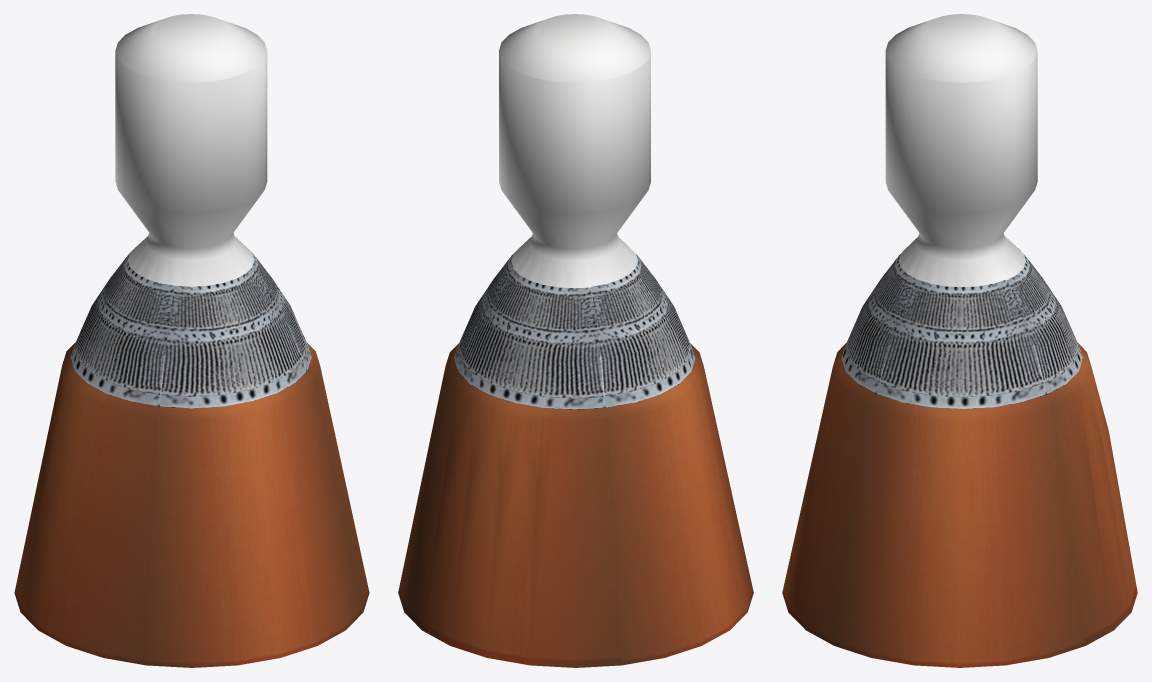
The model's file is LR_87_11_Chamber.obj.
3 views of the same model, side by side, from view 1: azimuth 30°, elevation 25°; view 2: azimuth 150°, elevation 25°; view 3: azimuth 270°, elevation 25° (orthographic).
Visible parts, largest first — view 1: Cylinder2; view 2: Cylinder2; view 3: Cylinder2.
Boxes of the visible parts, <box> form: Cylinder2: <box>14,14,369,667</box>; Cylinder2: <box>398,14,753,667</box>; Cylinder2: <box>782,14,1137,667</box>.
Size of the model in its own units: 1.43 by 2.49 by 1.43.
